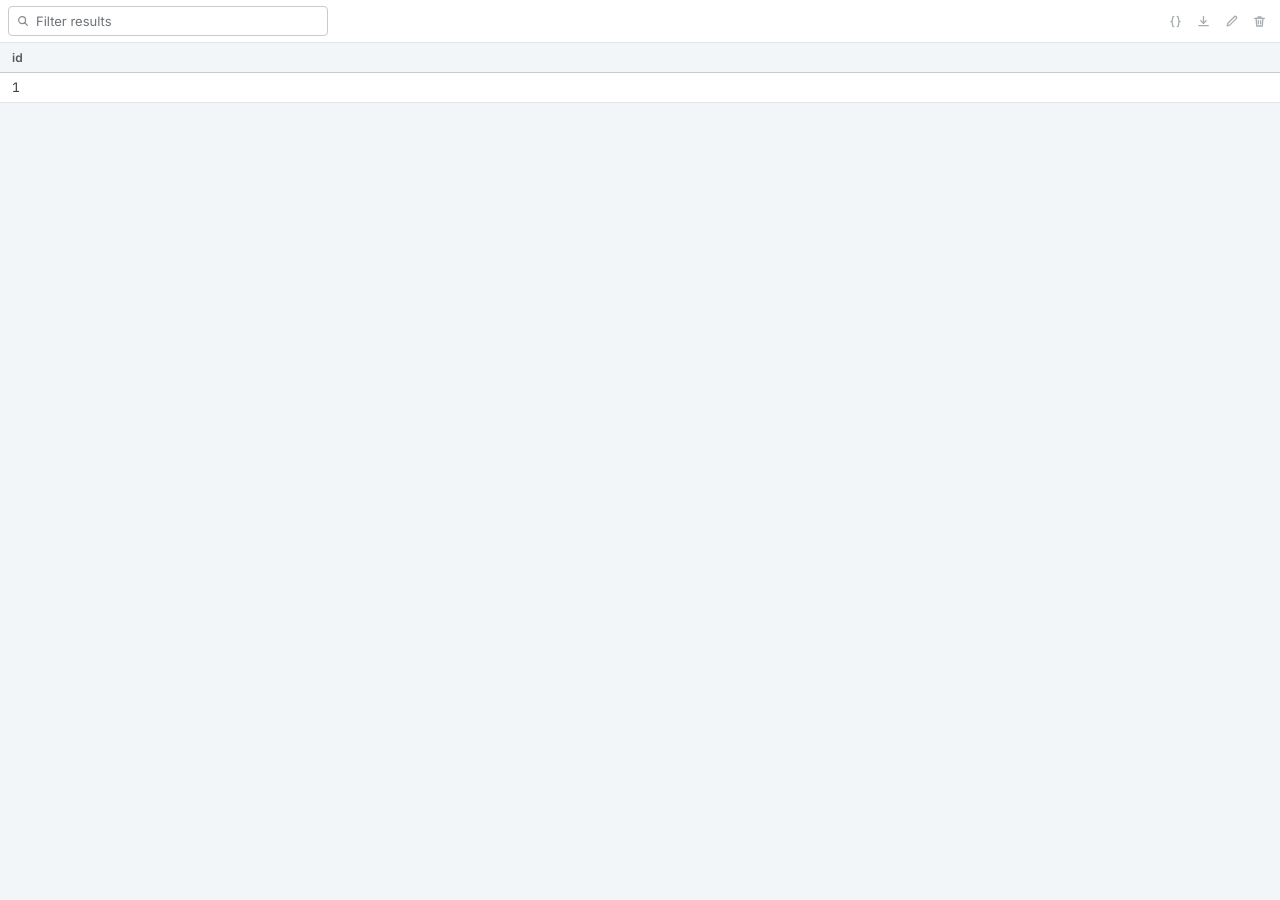
Test: QueryResultsPane › Space opens JSON viewer when a row is selected
Click the row "1" at (640, 88), box [0,73,1279,103]
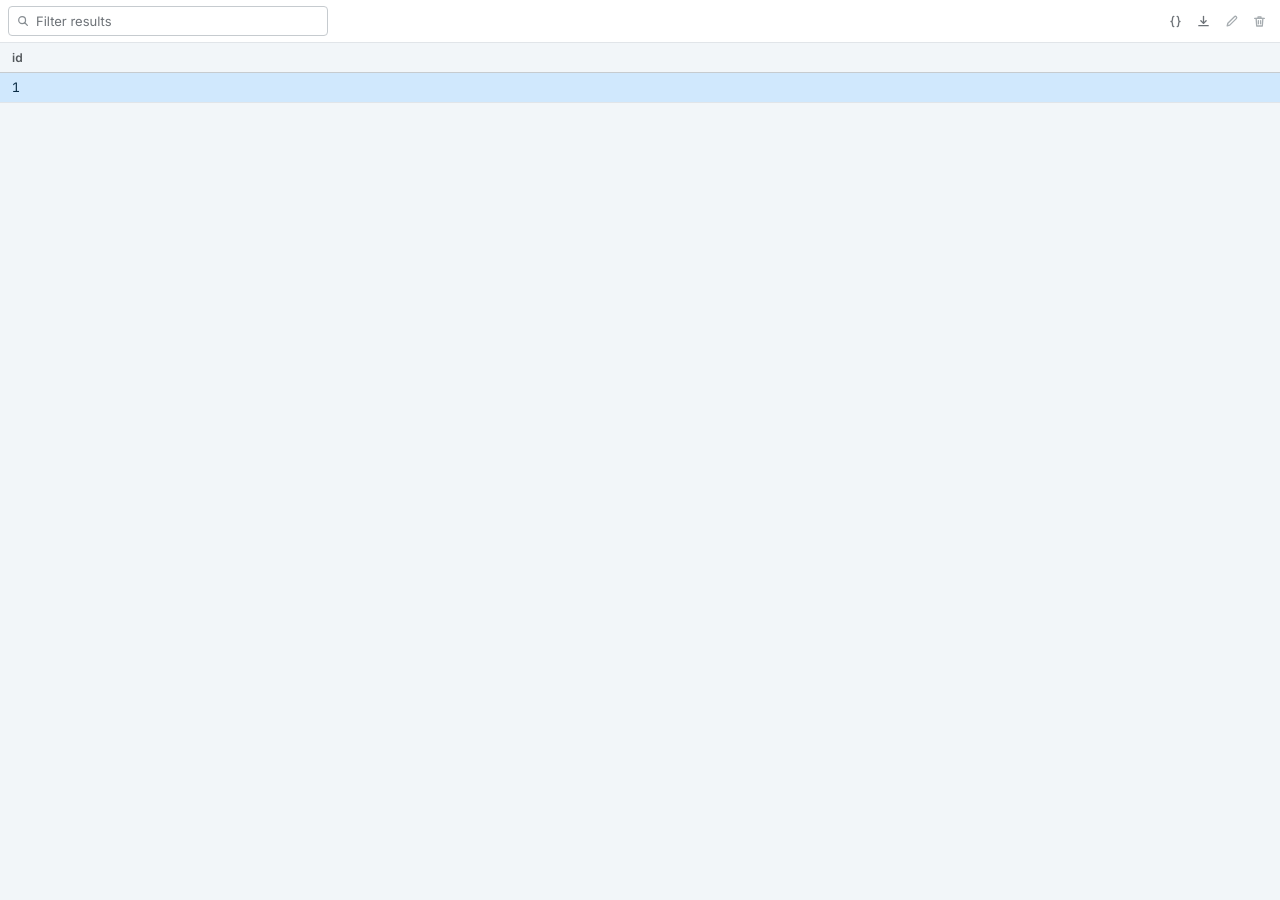
Type keys " "
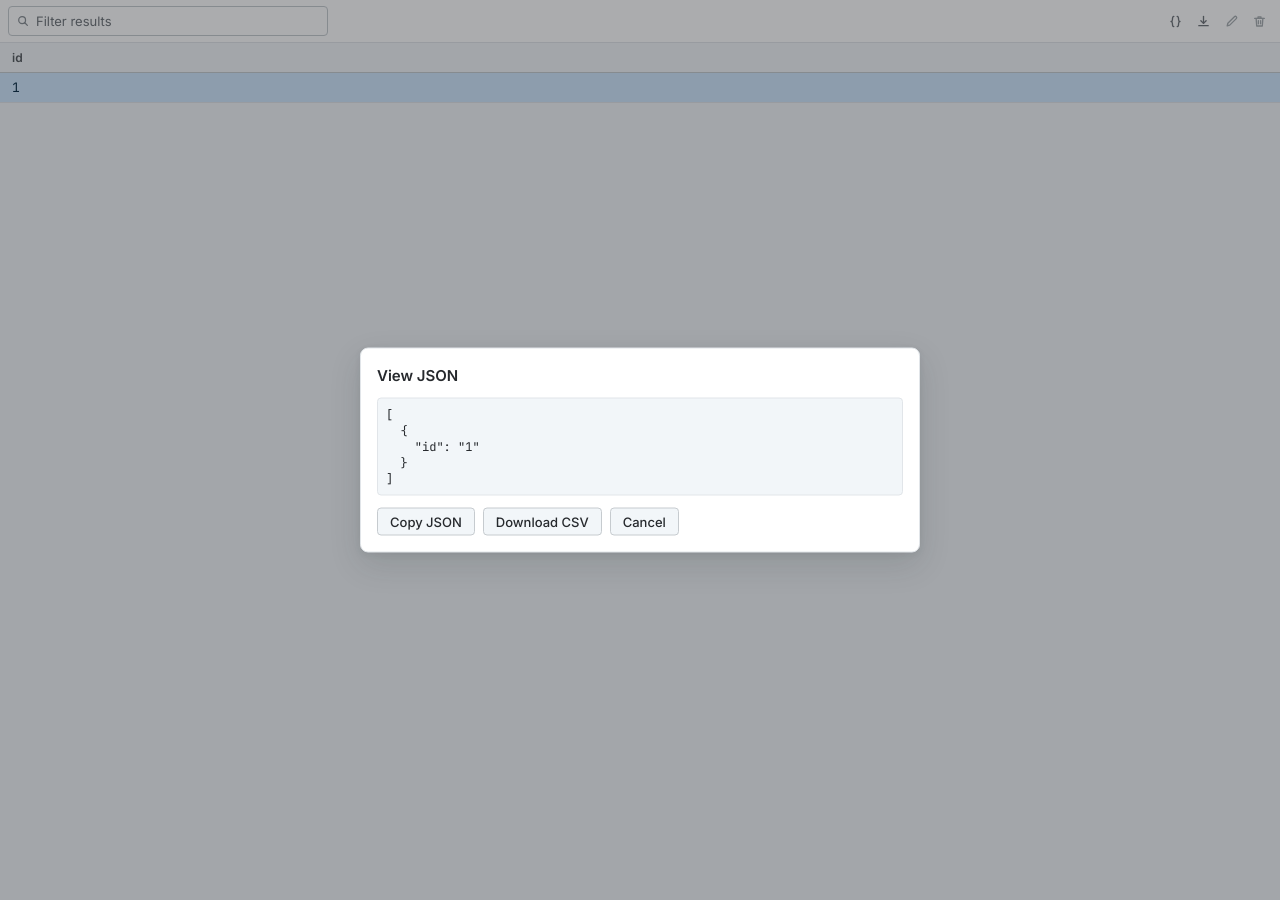
Now the dialog is shown, box [360,348,920,552]
